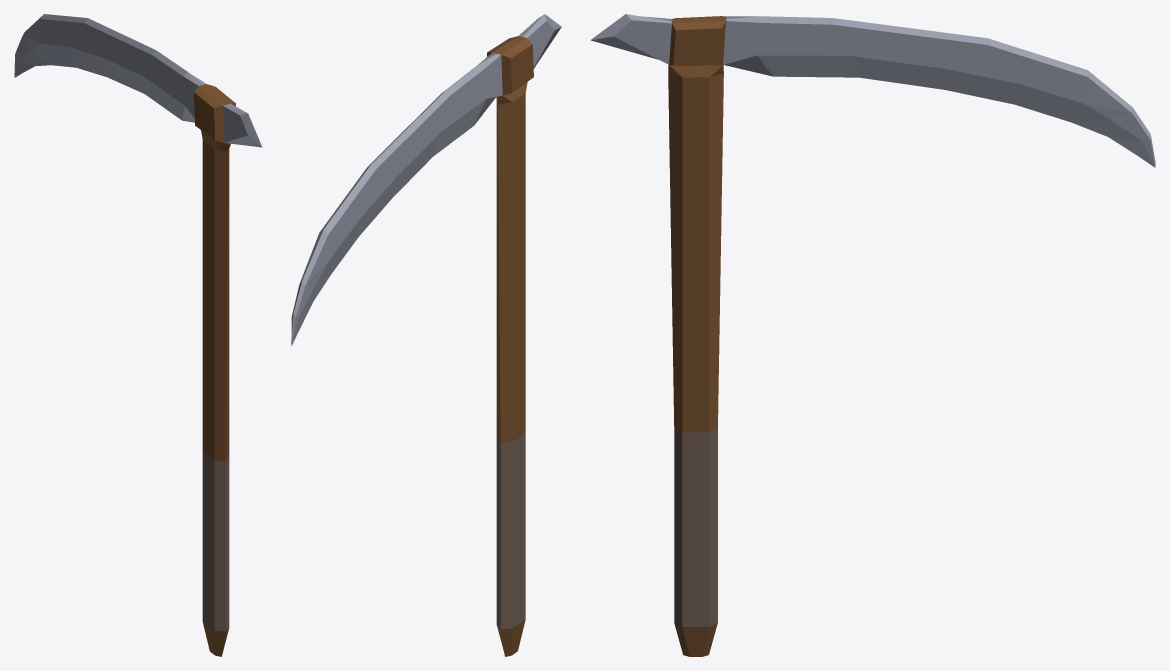
Rendered from Kama.fbx.
3 renders of one model, left to right at view 1: azimuth 30°, elevation 25°; view 2: azimuth 150°, elevation 25°; view 3: azimuth 270°, elevation 25°, orthographic. The views are drawn at different scales.
Parts seen in each view (by area): view 1: Cylinder; view 2: Cylinder; view 3: Cylinder.
Boxes of the visible parts, x1,y1,x2,y2 form: Cylinder: (14,14,262,656); Cylinder: (291,14,561,656); Cylinder: (590,14,1155,656).
Size of the model in its own units: 31.03 by 38.81 by 1.58.
